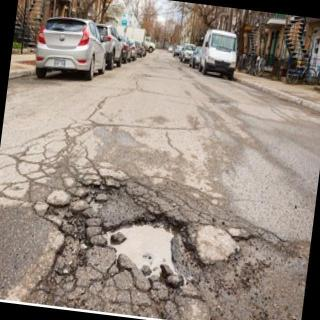pothole: (20, 183, 311, 320)
